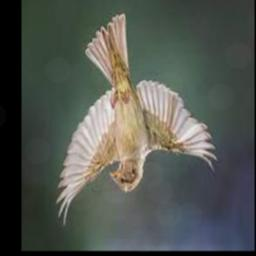Sparrow: (56, 14, 217, 225)
